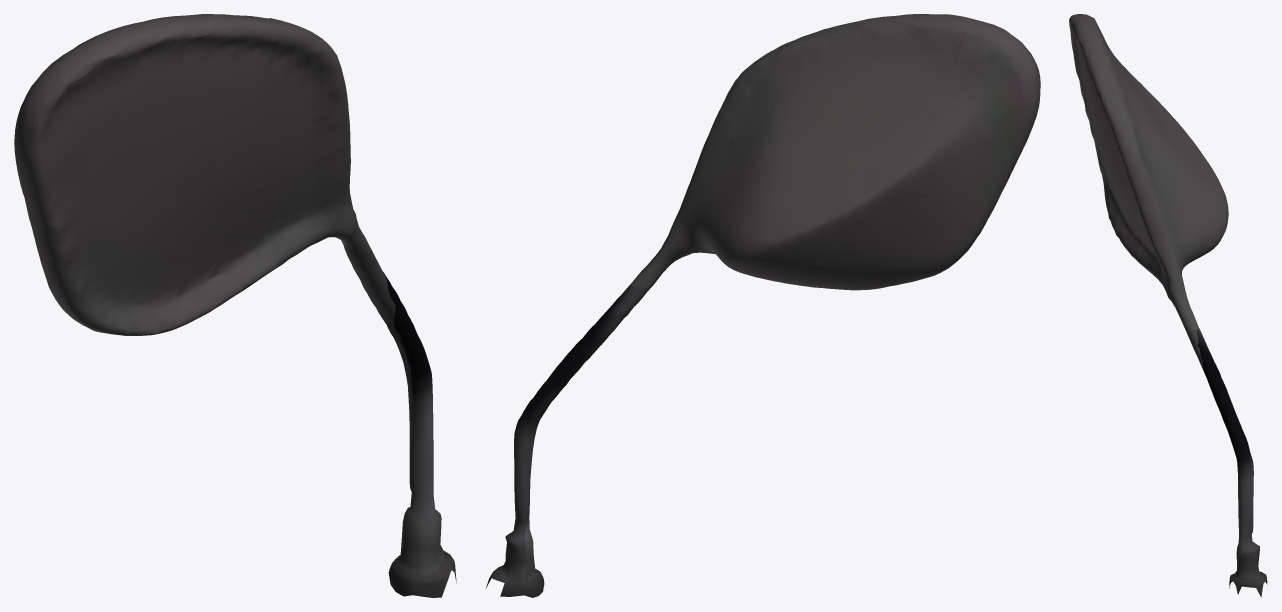
Rendered from blt150_03.obj.
3 views of the same model, side by side, from view 1: azimuth 30°, elevation 25°; view 2: azimuth 150°, elevation 25°; view 3: azimuth 270°, elevation 25° (orthographic). The views are drawn at different scales.
Visible parts, largest first — view 1: blt150_main.002_tripo_node_36cdd4a4-d861-4834-acdf-ce8a7d82f620.; view 2: blt150_main.002_tripo_node_36cdd4a4-d861-4834-acdf-ce8a7d82f620.; view 3: blt150_main.002_tripo_node_36cdd4a4-d861-4834-acdf-ce8a7d82f620..
Part boxes in pixels (bbox=[...]): blt150_main.002_tripo_node_36cdd4a4-d861-4834-acdf-ce8a7d82f620.: bbox=[14, 14, 456, 597]; blt150_main.002_tripo_node_36cdd4a4-d861-4834-acdf-ce8a7d82f620.: bbox=[486, 14, 1040, 597]; blt150_main.002_tripo_node_36cdd4a4-d861-4834-acdf-ce8a7d82f620.: bbox=[1069, 14, 1267, 597].
Bounding box in the file's own units: 1.01 × 1.27 × 0.5177.
Materials: 1 (1 with a texture image).
